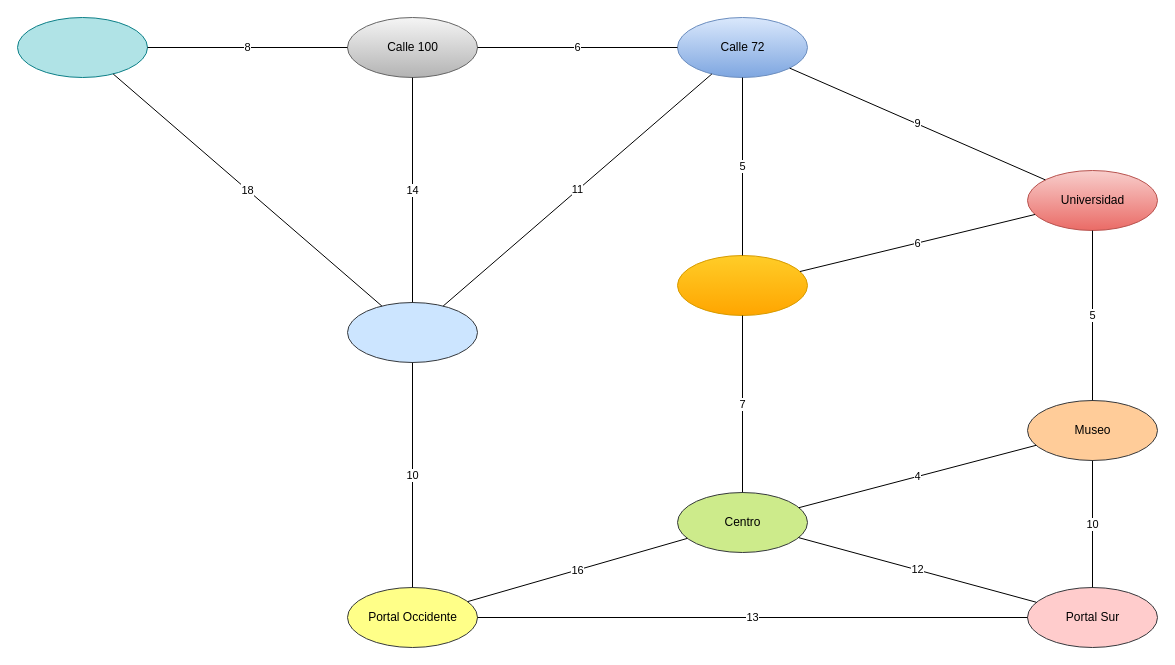
The diagram is 1175 pixels wide and 665 high, and some of its shapes have lost their labels. The shapes that lost their labels are listed below. From the top down, each one's box as (x1, y1, x2, y2) in pixels, then its label:
(16, 16, 148, 78): Portal Norte
(676, 254, 808, 316): Calle 45
(346, 302, 478, 362): Aeropuerto
